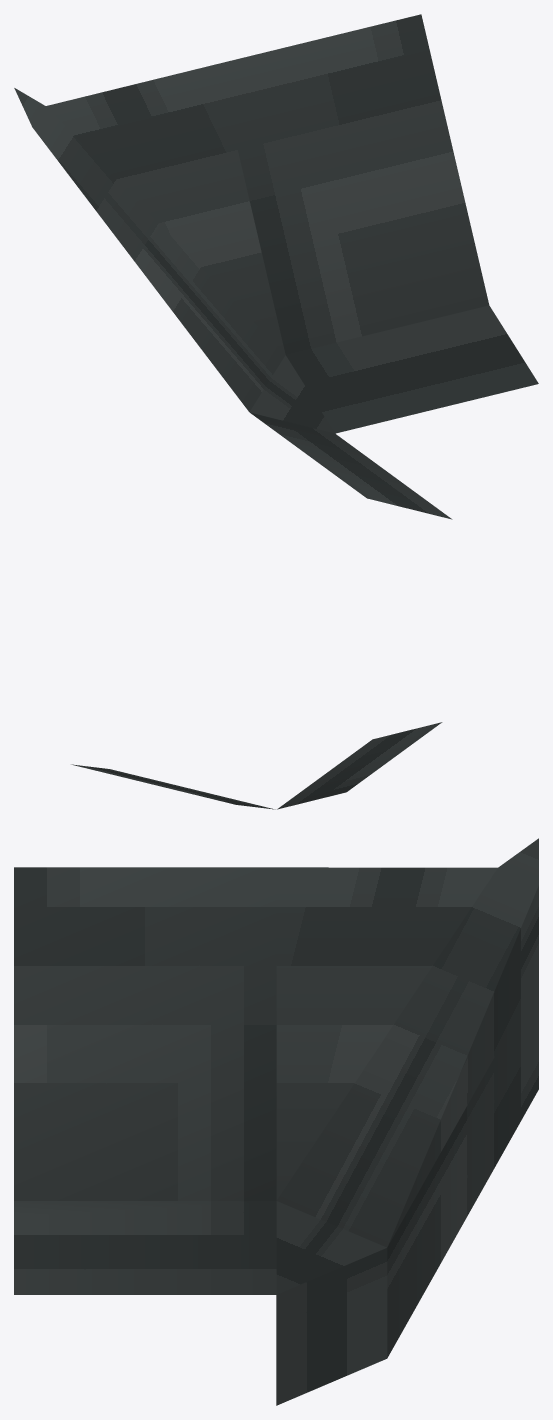
3 views of the same model, one above another, from view 1: azimuth 30°, elevation 25°; view 2: azimuth 150°, elevation 25°; view 3: azimuth 270°, elevation 25° (orthographic). The views are drawn at different scales.
Size of the model in its own units: 1 by 0.7268 by 1.
2 materials, 2 textured.
